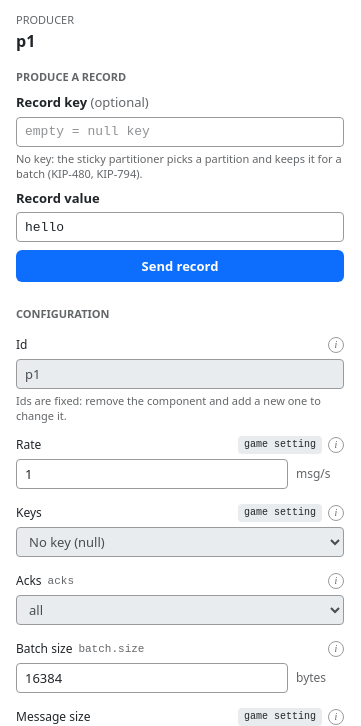
<PropertiesPanel> › shows an engine rejection next to the field and keeps what was typed
Replace the text in the field labelled "Batch size" with "32768": (152, 678) [16,663,288,693]
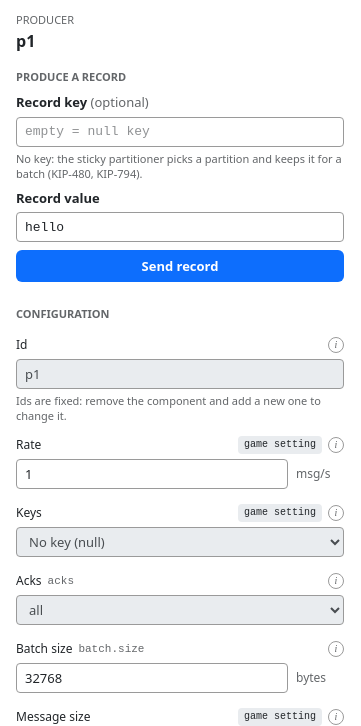
Leave the field labelled "Batch size", box [16,663,288,693]
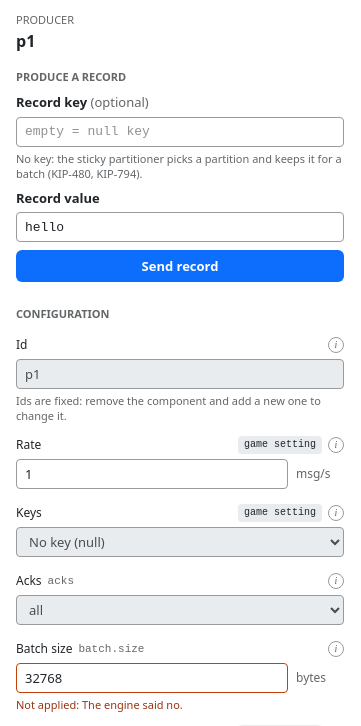
Expected: the text "Not applied: The engine said no." is shown, [16,697,183,712]
